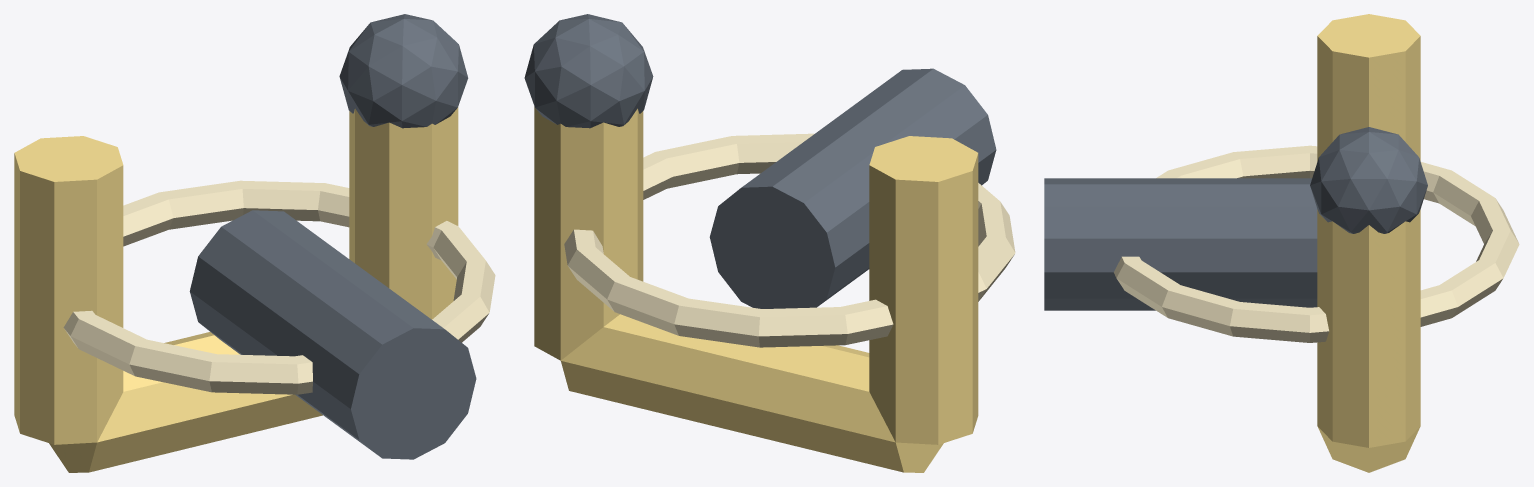
Rendered from iman_0.glb.
The picture shows the model from 3 angles, left to right: view 1: azimuth 30°, elevation 25°; view 2: azimuth 150°, elevation 25°; view 3: azimuth 270°, elevation 25°; orthographic projection. The views are drawn at different scales.
Visible parts, largest first — view 1: mango, herradura_izq, bobina, herradura_der, herradura_base, polo; view 2: herradura_izq, mango, herradura_base, bobina, herradura_der, polo; view 3: mango, herradura_der, bobina, herradura_izq, polo, herradura_base.
Boxes of the visible parts, x1,y1,x2,y2 form: mango: (189,210,476,459); herradura_izq: (14,136,123,444); bobina: (63,180,495,394); herradura_der: (349,107,458,319); herradura_base: (49,332,322,472); polo: (339,14,468,128); herradura_izq: (869,136,978,444); mango: (709,68,996,308); herradura_base: (561,314,943,472); bobina: (564,133,1015,347); herradura_der: (534,106,643,360); polo: (524,14,653,128); mango: (1044,178,1317,310); herradura_der: (1317,209,1420,447); bobina: (1114,145,1519,342); herradura_izq: (1317,14,1420,161); polo: (1310,127,1427,233); herradura_base: (1318,426,1420,472).
Size of the model in its own units: 0.8804 by 0.7127 by 0.9.
